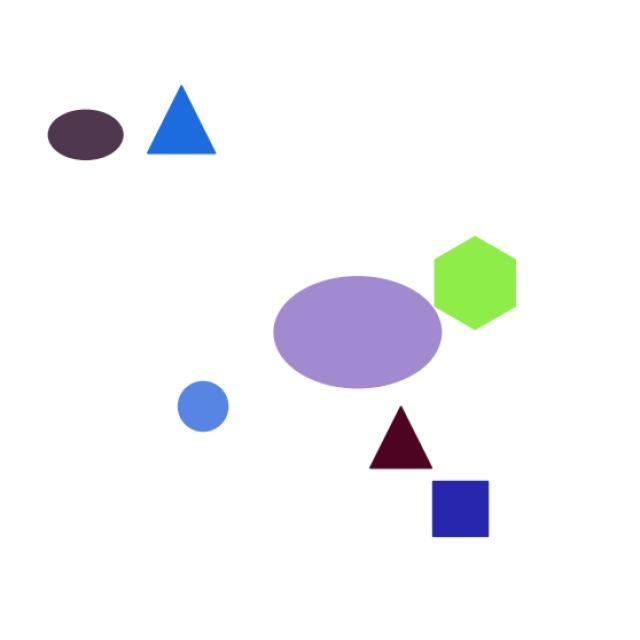Circle: (158, 365, 264, 442)
Hexagon: (422, 229, 538, 339)
Oval: (270, 265, 448, 398), (44, 99, 130, 166)
Triangle: (146, 73, 248, 166), (350, 399, 457, 485)
square: (423, 468, 526, 555)
